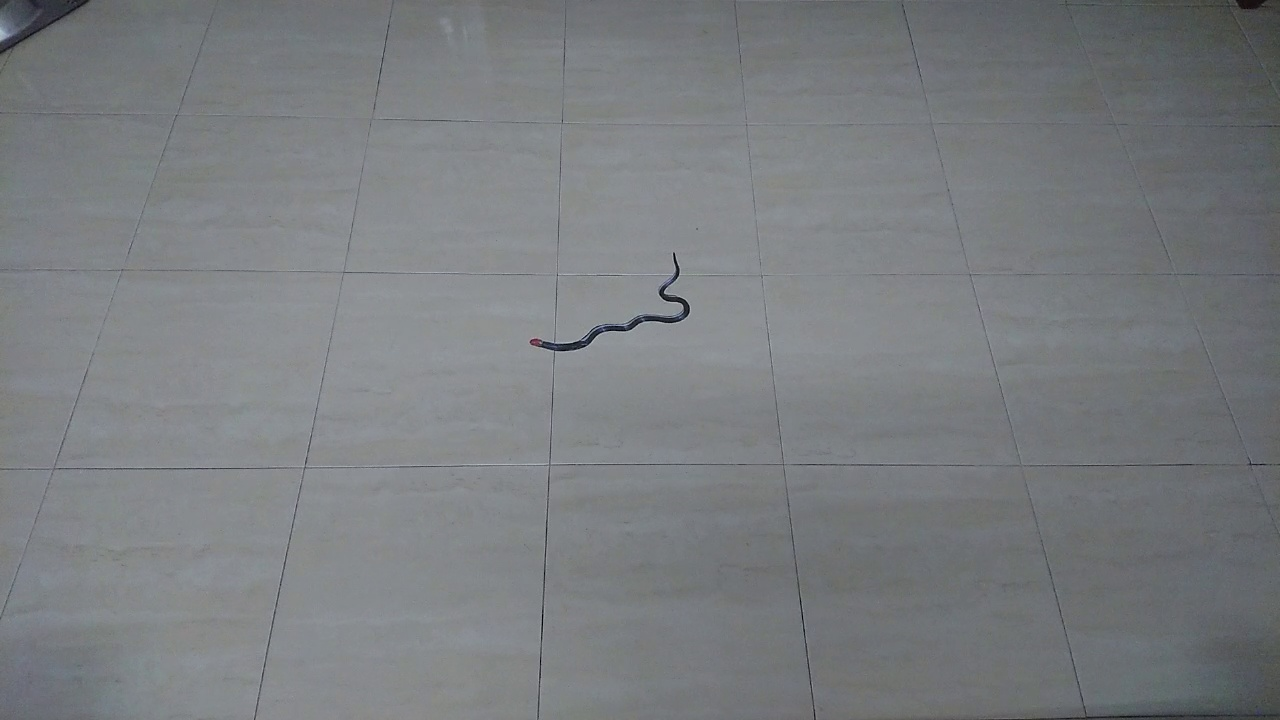snake: (518, 241, 696, 361)
